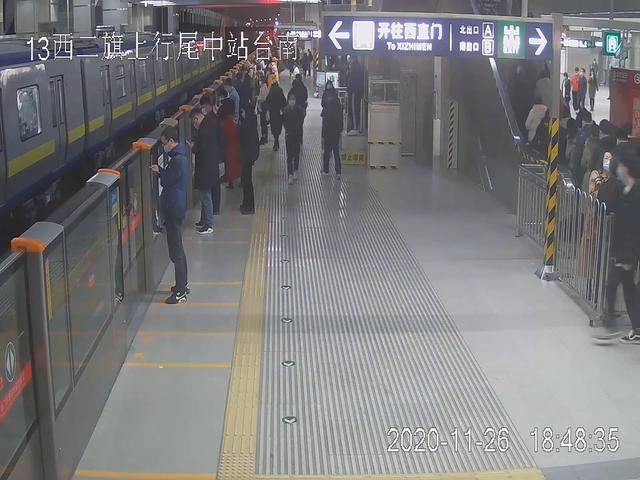person: (152, 125, 194, 305), (191, 108, 219, 234), (235, 103, 259, 216), (320, 91, 346, 180), (283, 91, 304, 184), (267, 80, 287, 150)
